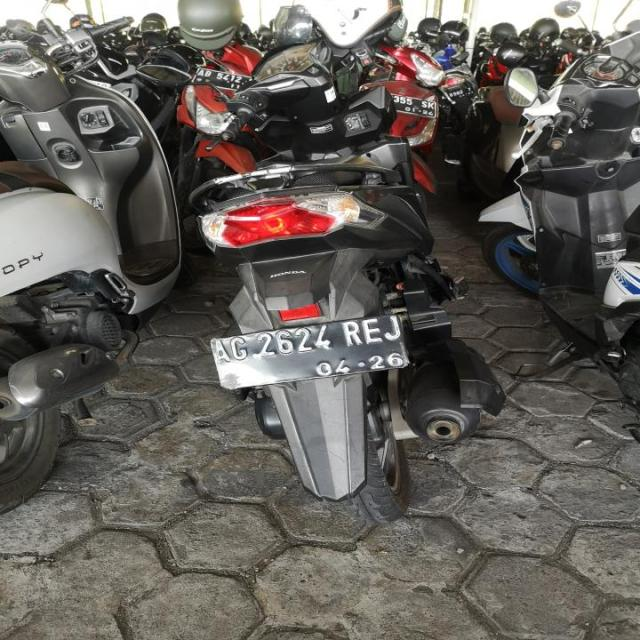License Plate: (209, 312, 412, 391), (192, 66, 252, 92)
